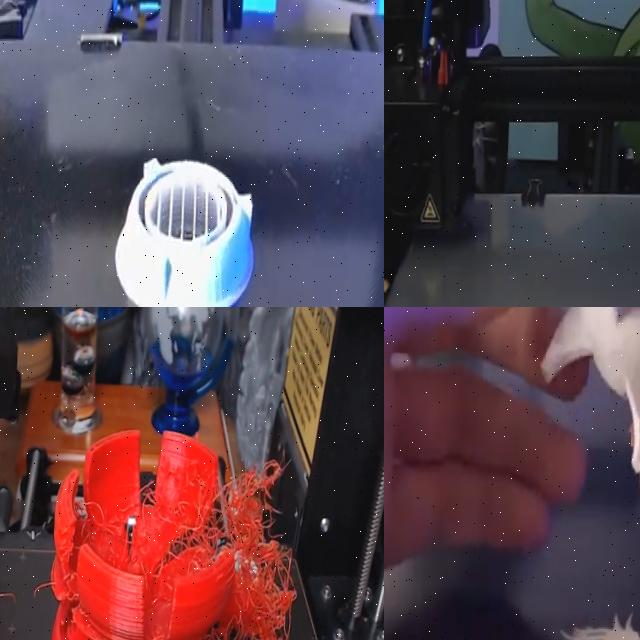spaghetti: (50, 460, 296, 640), (0, 587, 16, 625)
